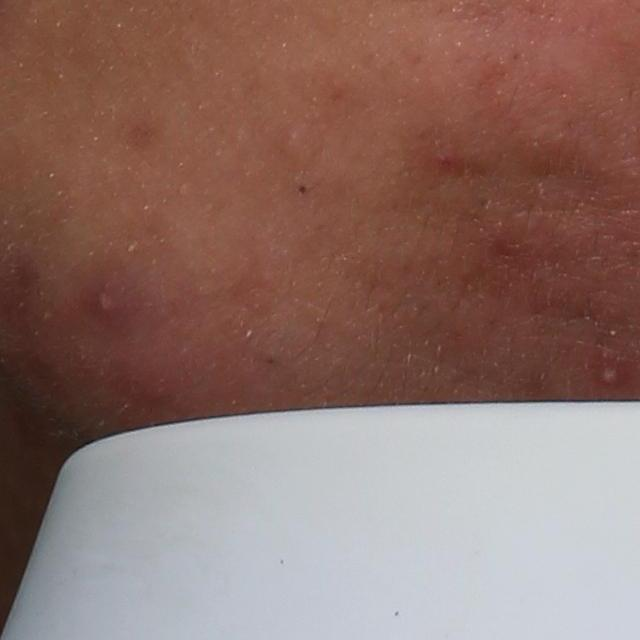comedo: (294, 177, 309, 202)
pustule: (595, 357, 623, 385)
